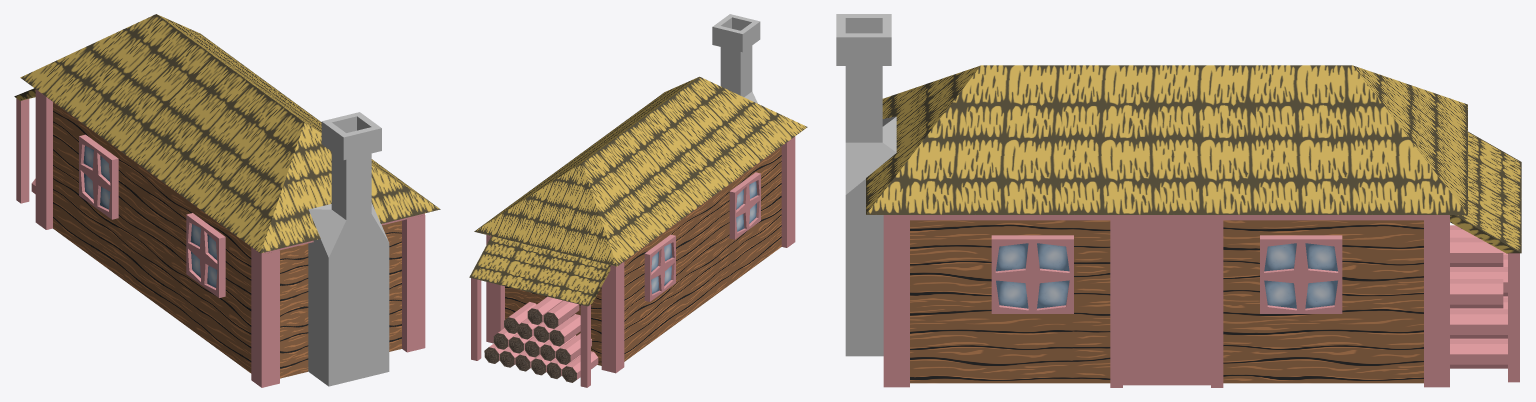
Rendered from Hous1.fbx.
3 views of the same model, side by side, from view 1: azimuth 30°, elevation 25°; view 2: azimuth 150°, elevation 25°; view 3: azimuth 270°, elevation 25° (orthographic). The views are drawn at different scales.
Visible parts, largest first — view 1: Cube; view 2: Cube; view 3: Cube.
Boxes of the visible parts, box(x1,y1,x2,y2) form: Cube: box(14, 14, 440, 387); Cube: box(469, 14, 807, 387); Cube: box(836, 14, 1521, 387).
Bounding box in the file's own units: 461 × 610 × 1211.
